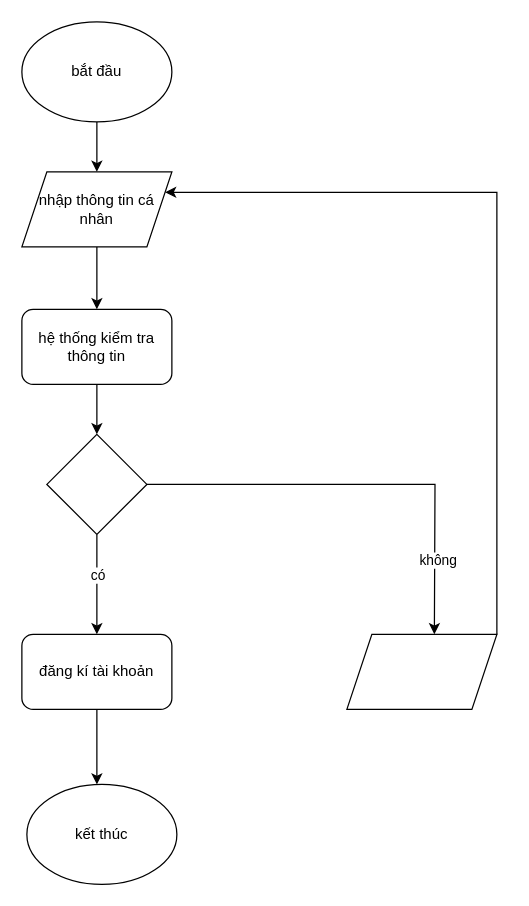
The diagram is 529 pixels wide and 906 high, and some of its shapes have lost their labels. Each missing label, with the centre of its shape:
"thông báo lỗi , yêu cầu nhâp lại" goes at pixel 421 671.
"thông tin hợp lệ?" goes at pixel 96 483.
